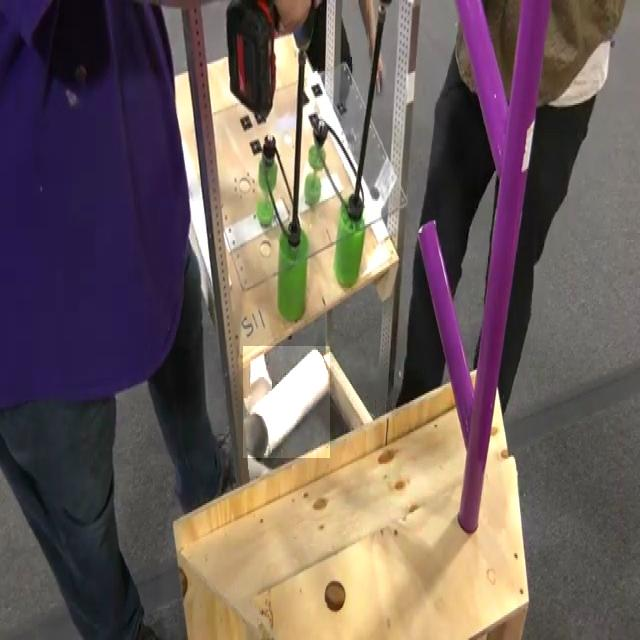Coral: (243, 346, 330, 458)
